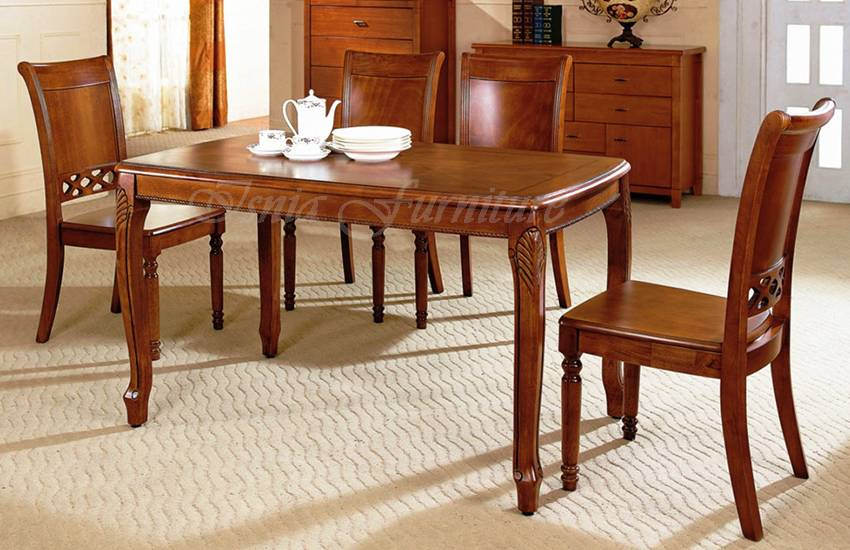Carving Chair: (575, 90, 821, 550)
Carving Table: (118, 129, 623, 503)
